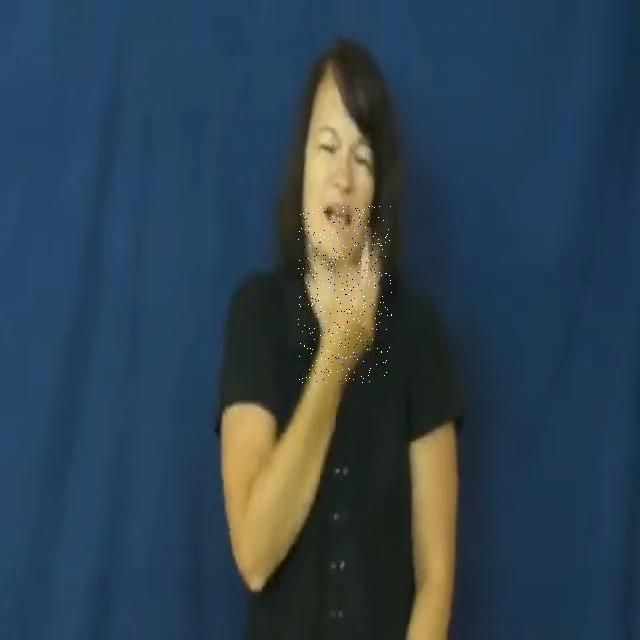hot: (298, 206, 392, 384)
